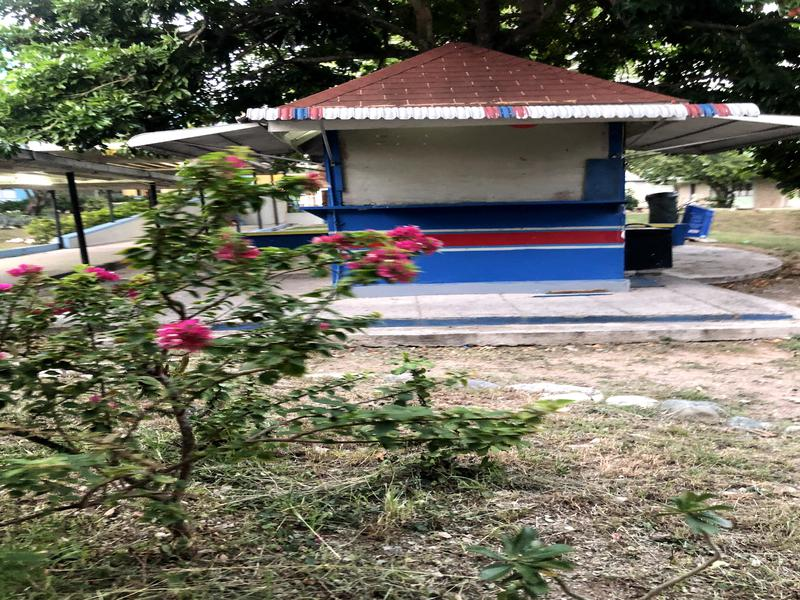18.0050609_-76.7496662_auntyjackie: (243, 30, 694, 297)
